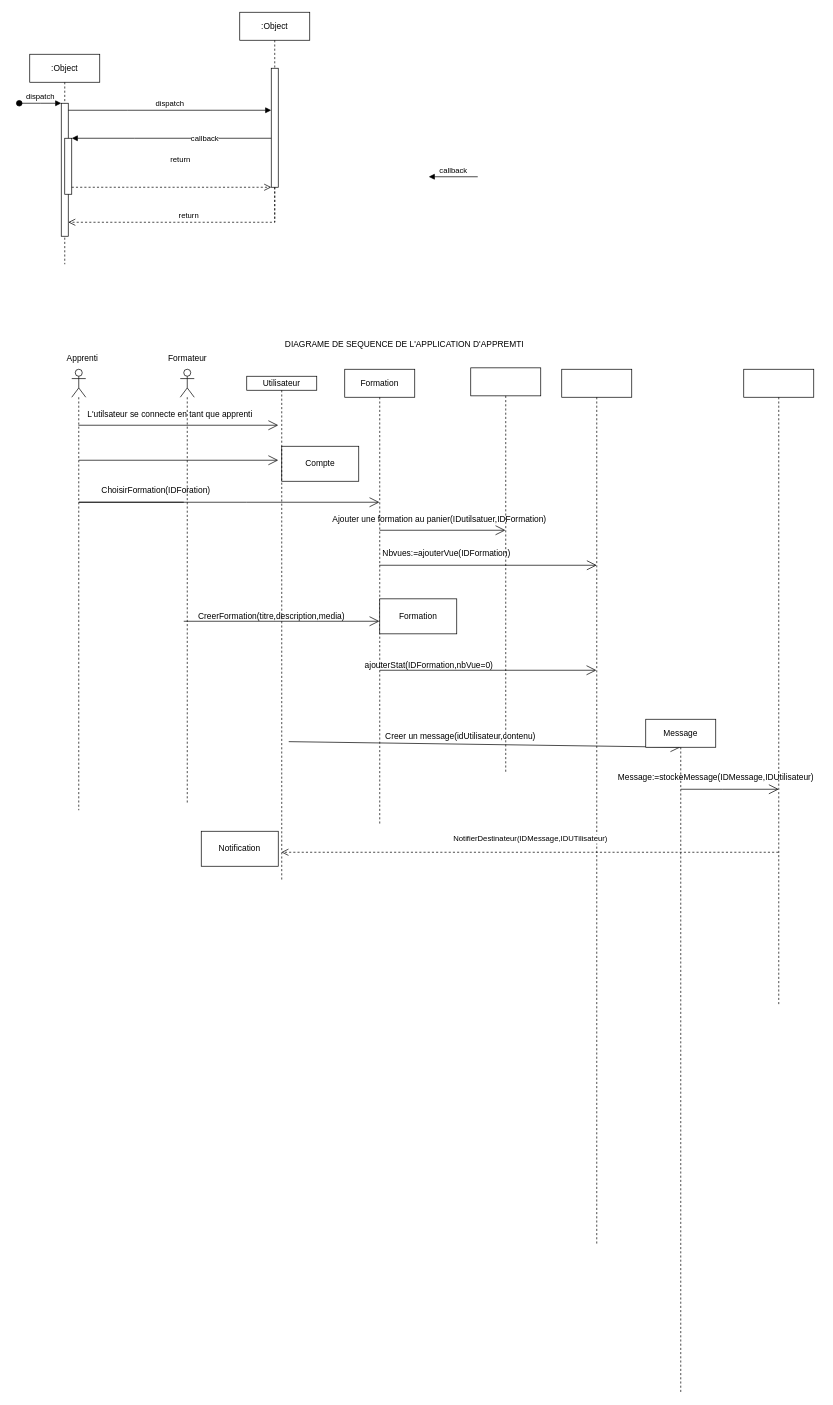
This 833x1405 diagram has some shape labels left out. The box of each missing label's shape, as (x1, y1, x2, y2) in pixels:
Chat: (743, 369, 814, 1006)
idUtilisateur:=CreerCompte(nom,email,mot de passe): (180, 369, 194, 803)
Panier: (470, 367, 541, 774)
StatFormation: (561, 369, 632, 1244)
